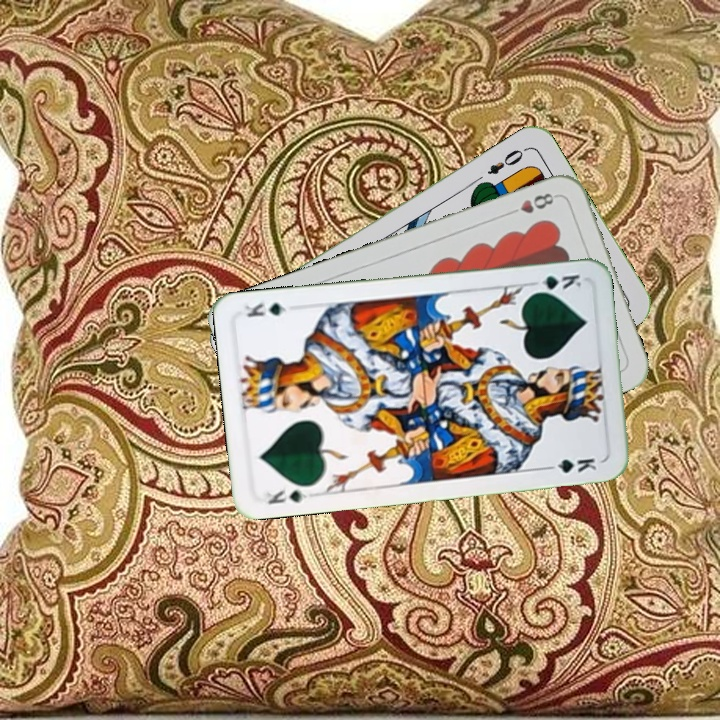EO: (483, 143, 530, 177)
GK: (526, 270, 584, 296), (261, 480, 315, 507)
H8: (503, 189, 560, 218)
